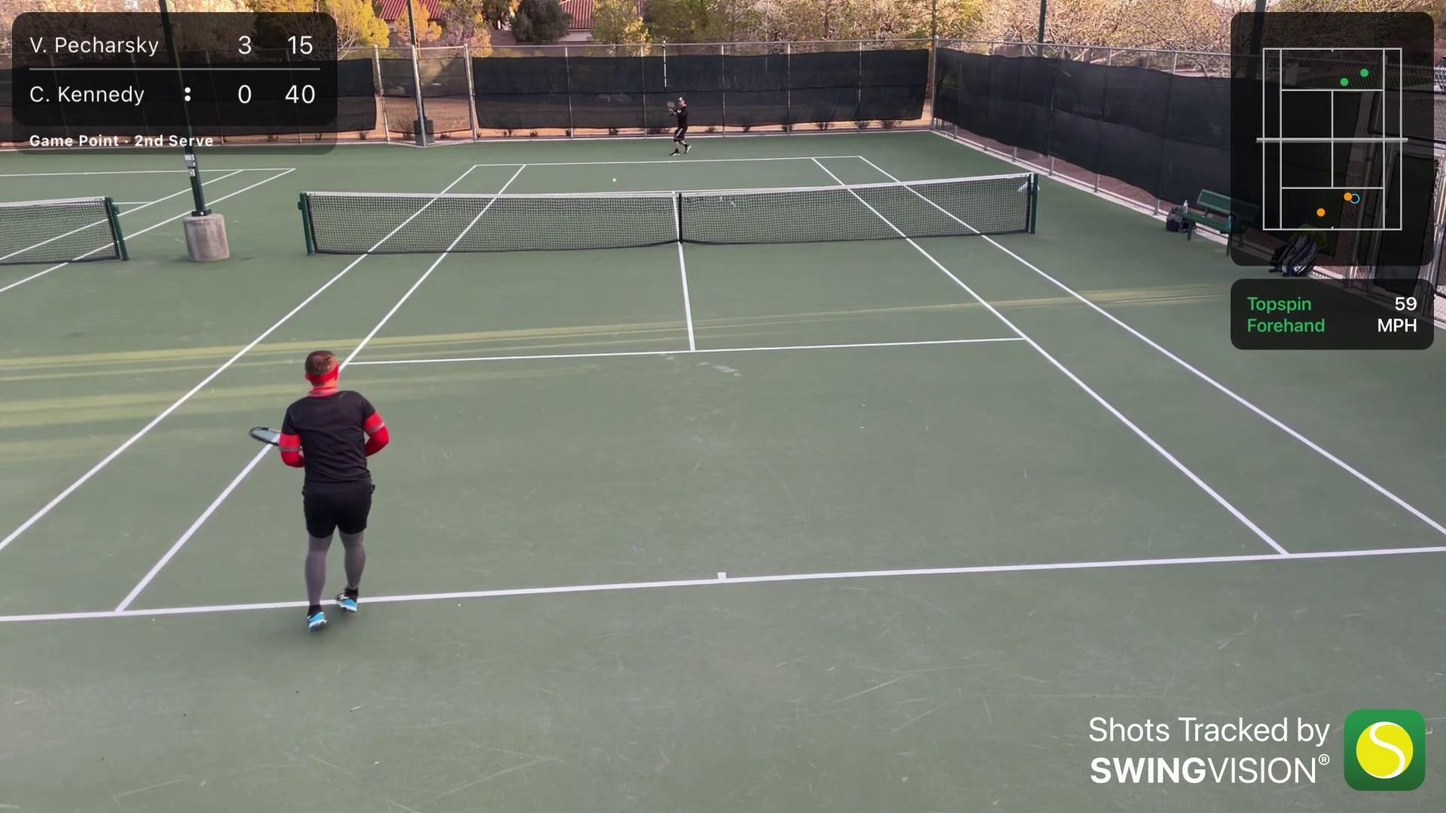ball: (612, 177, 618, 185)
